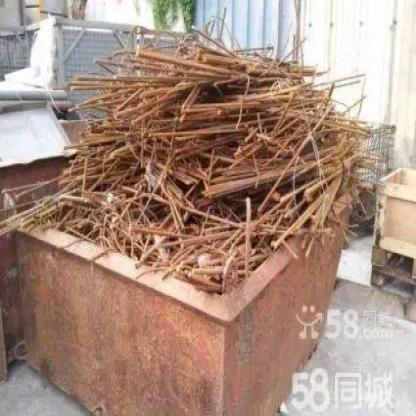rebar: (3, 23, 389, 295)
